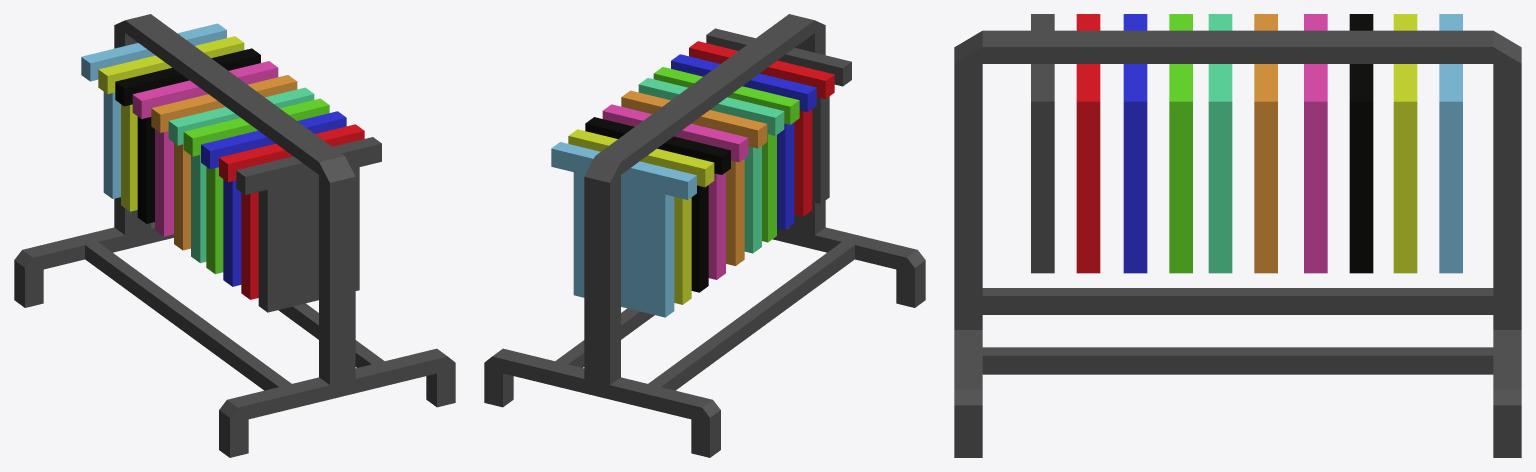
The model's file is Roupas.fbx.
3 views of the same model, side by side, from view 1: azimuth 30°, elevation 25°; view 2: azimuth 150°, elevation 25°; view 3: azimuth 270°, elevation 25° (orthographic). The views are drawn at different scales.
Visible parts, largest first — view 1: Cube.010; view 2: Cube.010; view 3: Cube.010.
Boxes of the visible parts, x1=… form: Cube.010: x1=14, y1=14, x2=455, y2=457; Cube.010: x1=484, y1=14, x2=925, y2=457; Cube.010: x1=954, y1=14, x2=1521, y2=457.
Bounding box in the file's own units: 12.06 × 13.44 × 19.95.
